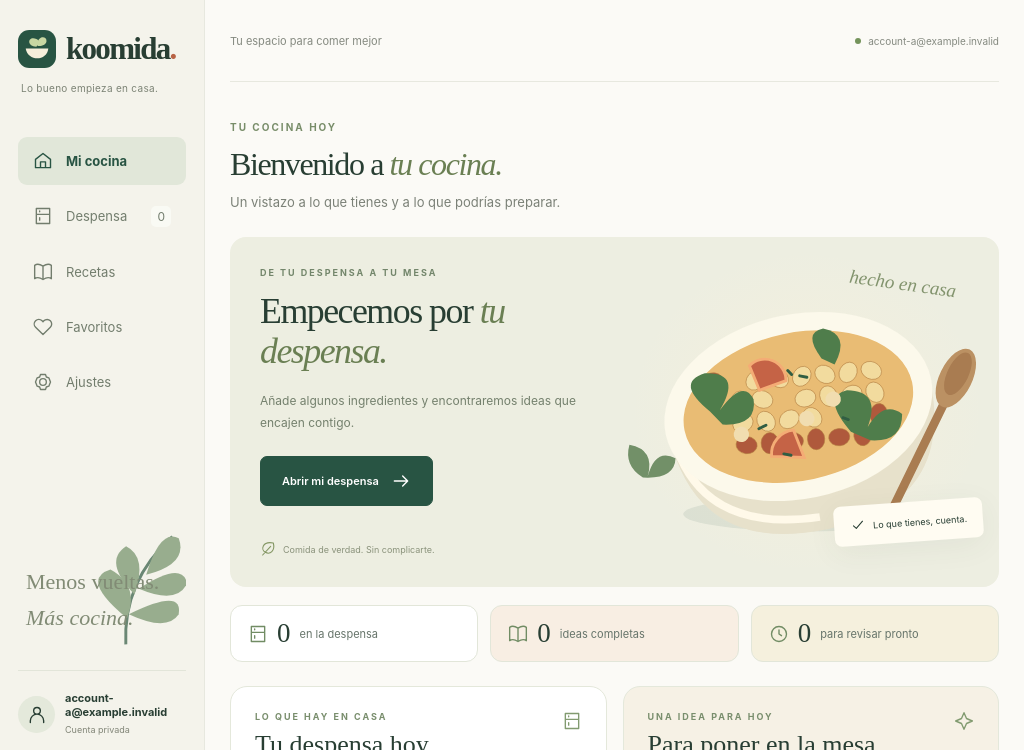
Scenario: public and private boundaries › separates account preferences and clears private content when auth expires
Check: the heading "Bienvenido a tu cocina." is shown, box [230, 146, 502, 182]
Click the button "Recetas". click: click(102, 272)
box: [18, 248, 186, 296]
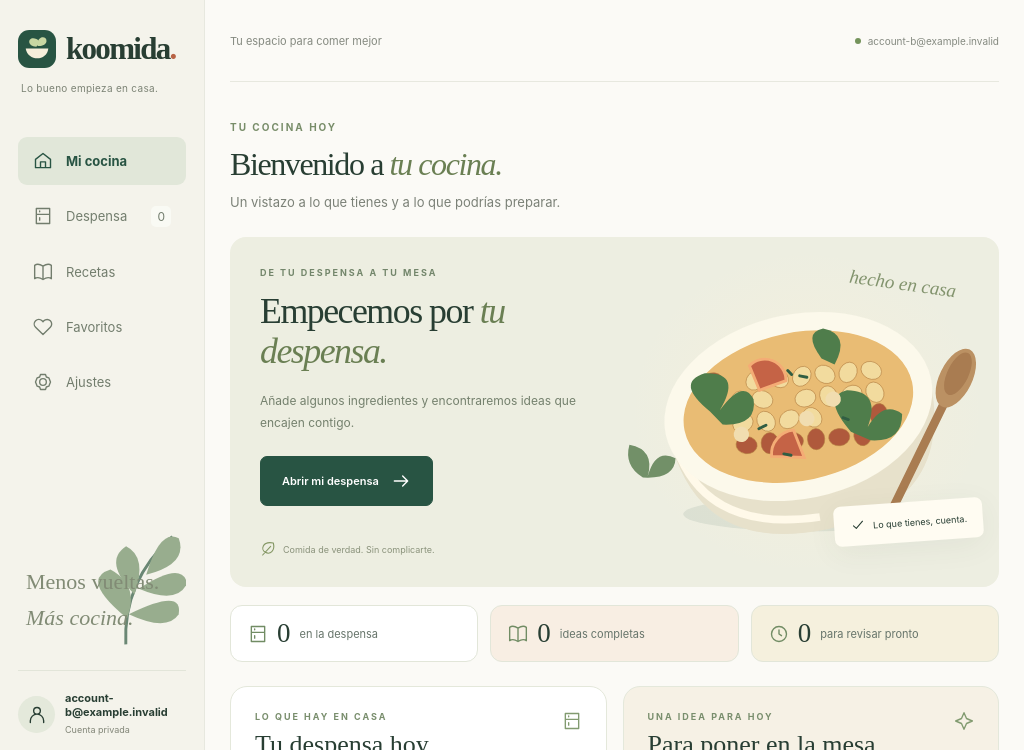
Check: the button "Pasta de la huerta" is not shown
Check: the heading "Bienvenido a tu cocina." is shown, box [230, 146, 502, 182]
Click the button "Recetas". click: click(102, 272)
box: [18, 248, 186, 296]
(page scrolled)
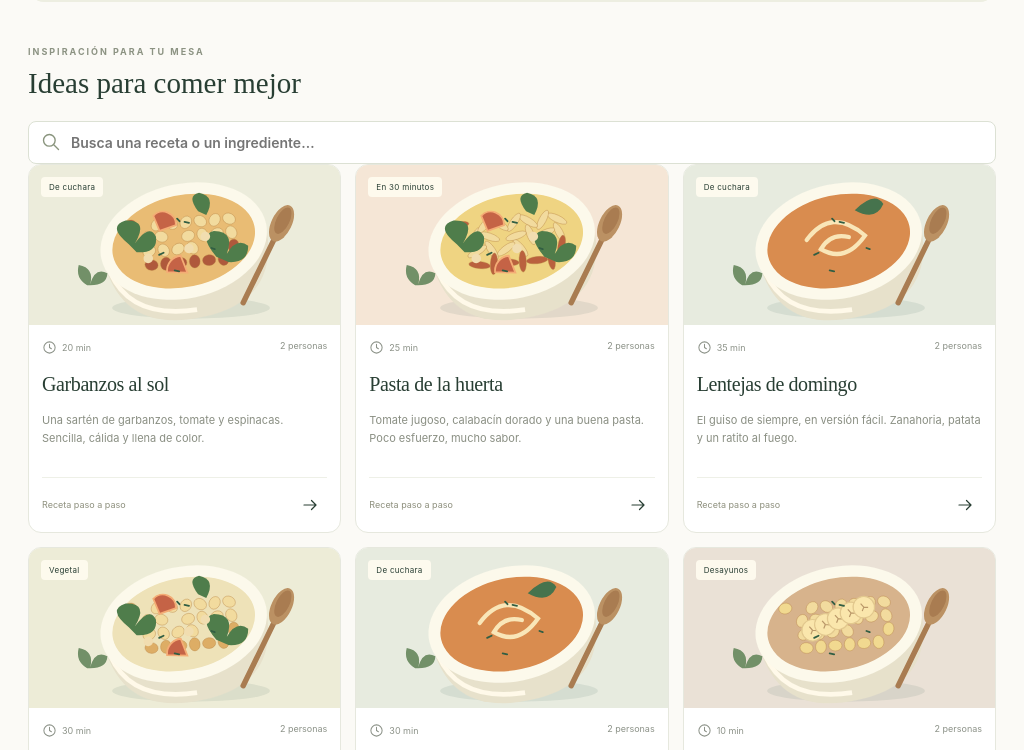
Check: the button "Pasta de la huerta" is shown, box [369, 367, 503, 402]
Check: the navigation bar "Principal" is gone
